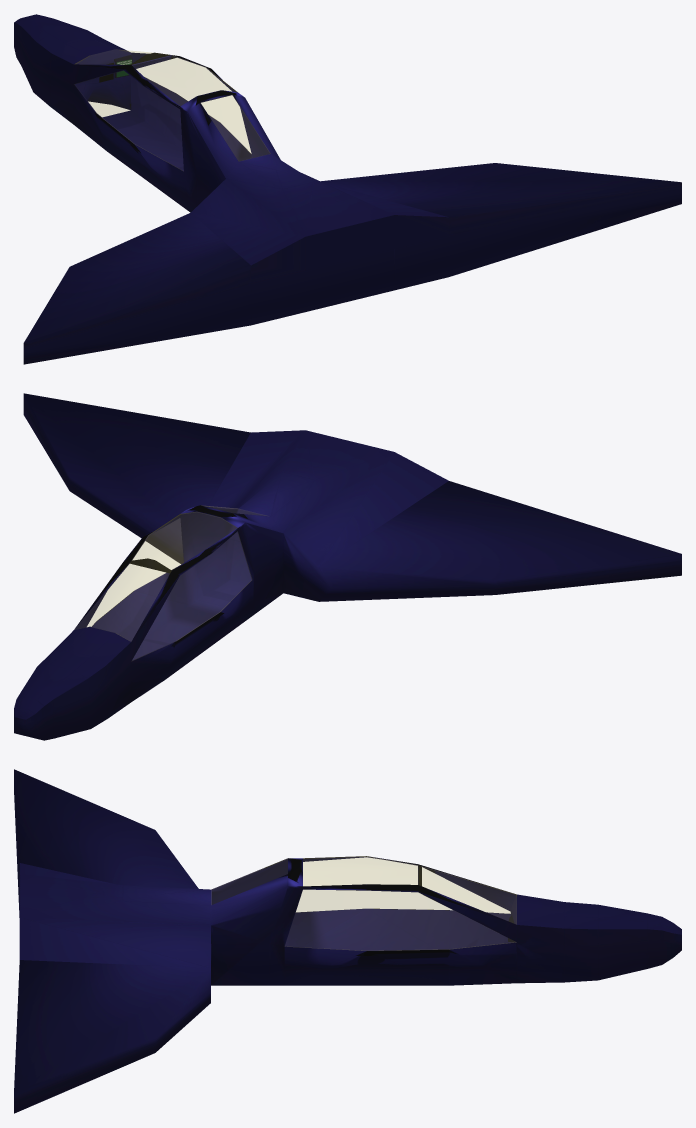
Rendered from ship.glb.
3 renders of one model, top to bottom at view 1: azimuth 30°, elevation 25°; view 2: azimuth 150°, elevation 25°; view 3: azimuth 270°, elevation 25°, orthographic.
Visible parts, largest first — view 1: Ship; view 2: Ship; view 3: Ship.
Part boxes in pixels (x1=…): Ship: x1=14, y1=14, x2=681, y2=364; Ship: x1=14, y1=393, x2=681, y2=740; Ship: x1=14, y1=769, x2=681, y2=1113.
Bounding box in the file's own units: 14.08 × 2.17 × 12.32.
Materials: 4 (2 with a texture image).
